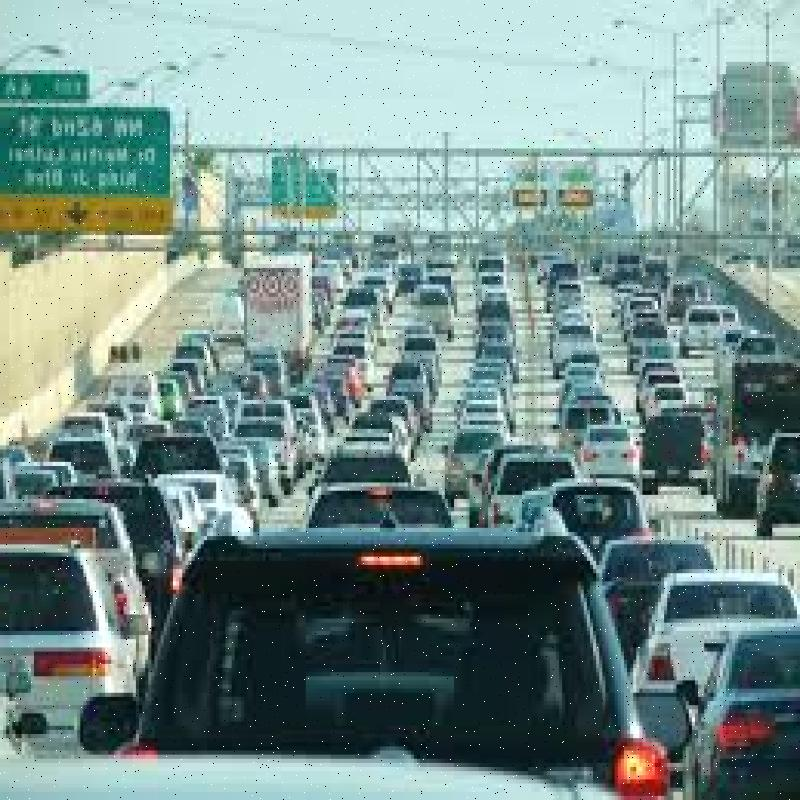car: (93, 499, 673, 800), (668, 516, 800, 794), (84, 475, 248, 579), (554, 461, 672, 568), (546, 400, 627, 508), (338, 435, 415, 519), (243, 406, 302, 497)
